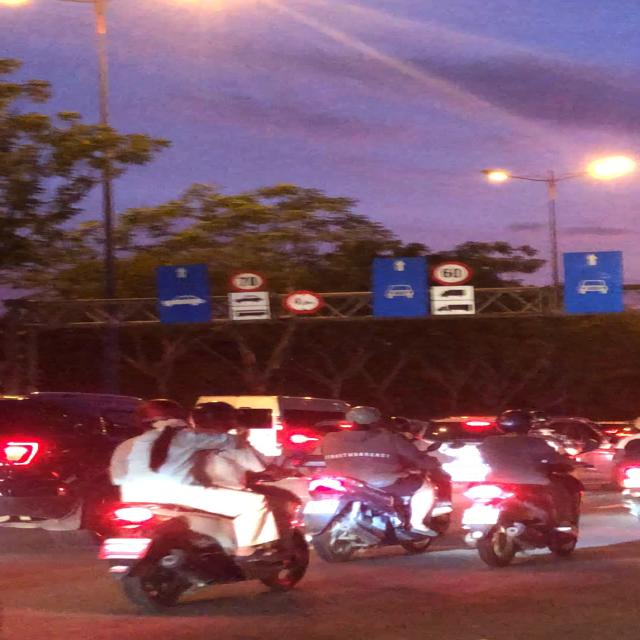Bien bao han che chieu cao: (279, 288, 327, 318)
Bien bao toc do toi da cho phep: (428, 257, 474, 286), (224, 267, 264, 293)
